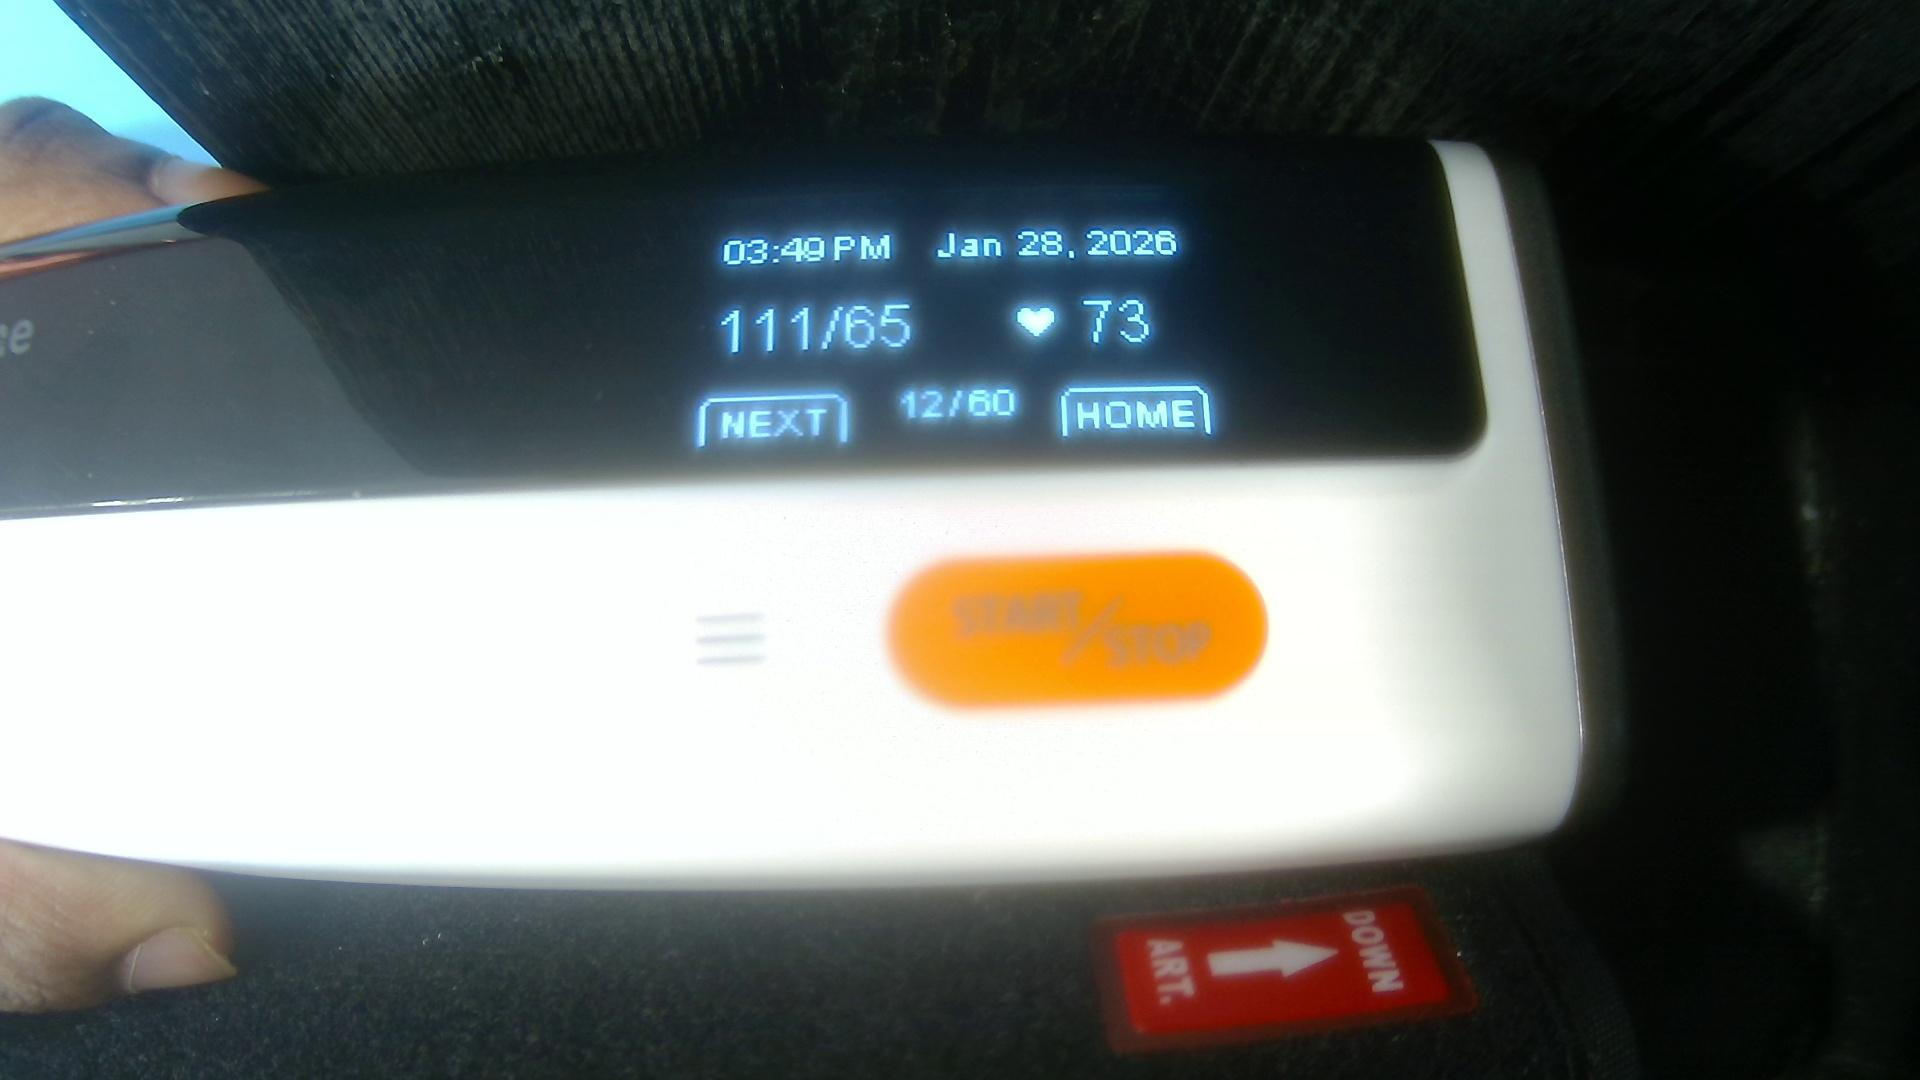DISPLAY: (18, 149, 1469, 522)
